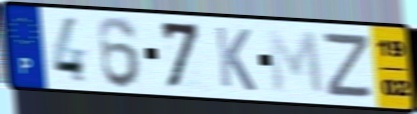4: (47, 14, 93, 86)
6: (96, 14, 144, 91)
7: (160, 20, 203, 91)
K: (212, 24, 258, 94)
M: (264, 27, 328, 98)
Z: (322, 32, 375, 101)
